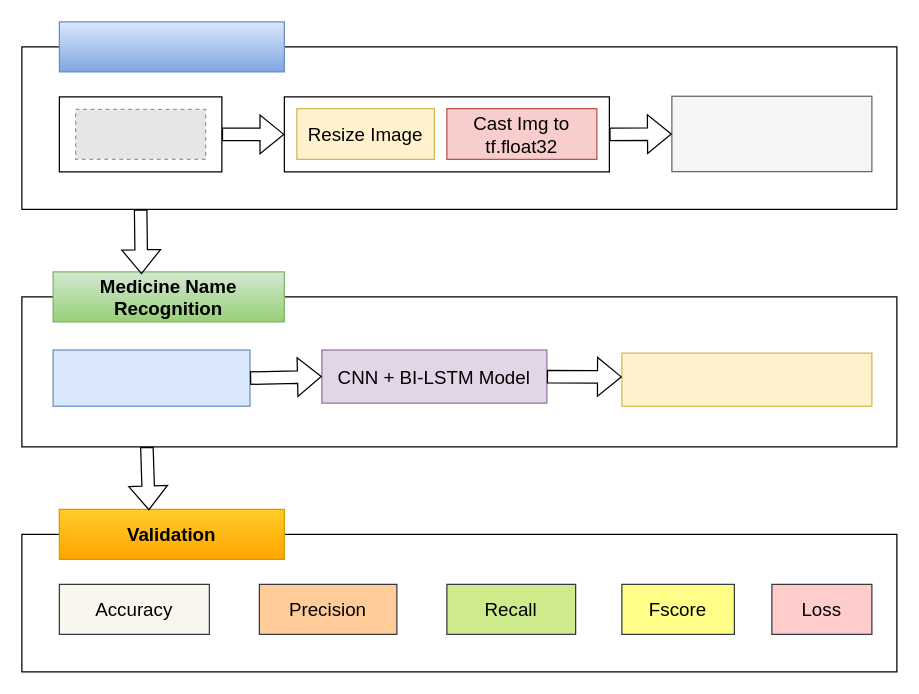
Some shapes in this 919 by 694 pixel diagram are drawn without their labels. Grey dashed boxes stand in for pictures. Each missing label, with the box of its shape:
Image Preprocessing: (58, 21, 284, 72)
Pre Processed Image: (52, 349, 250, 406)
Preprocessed Image: (671, 95, 872, 172)
Recognized Medicine name: (621, 352, 872, 406)
